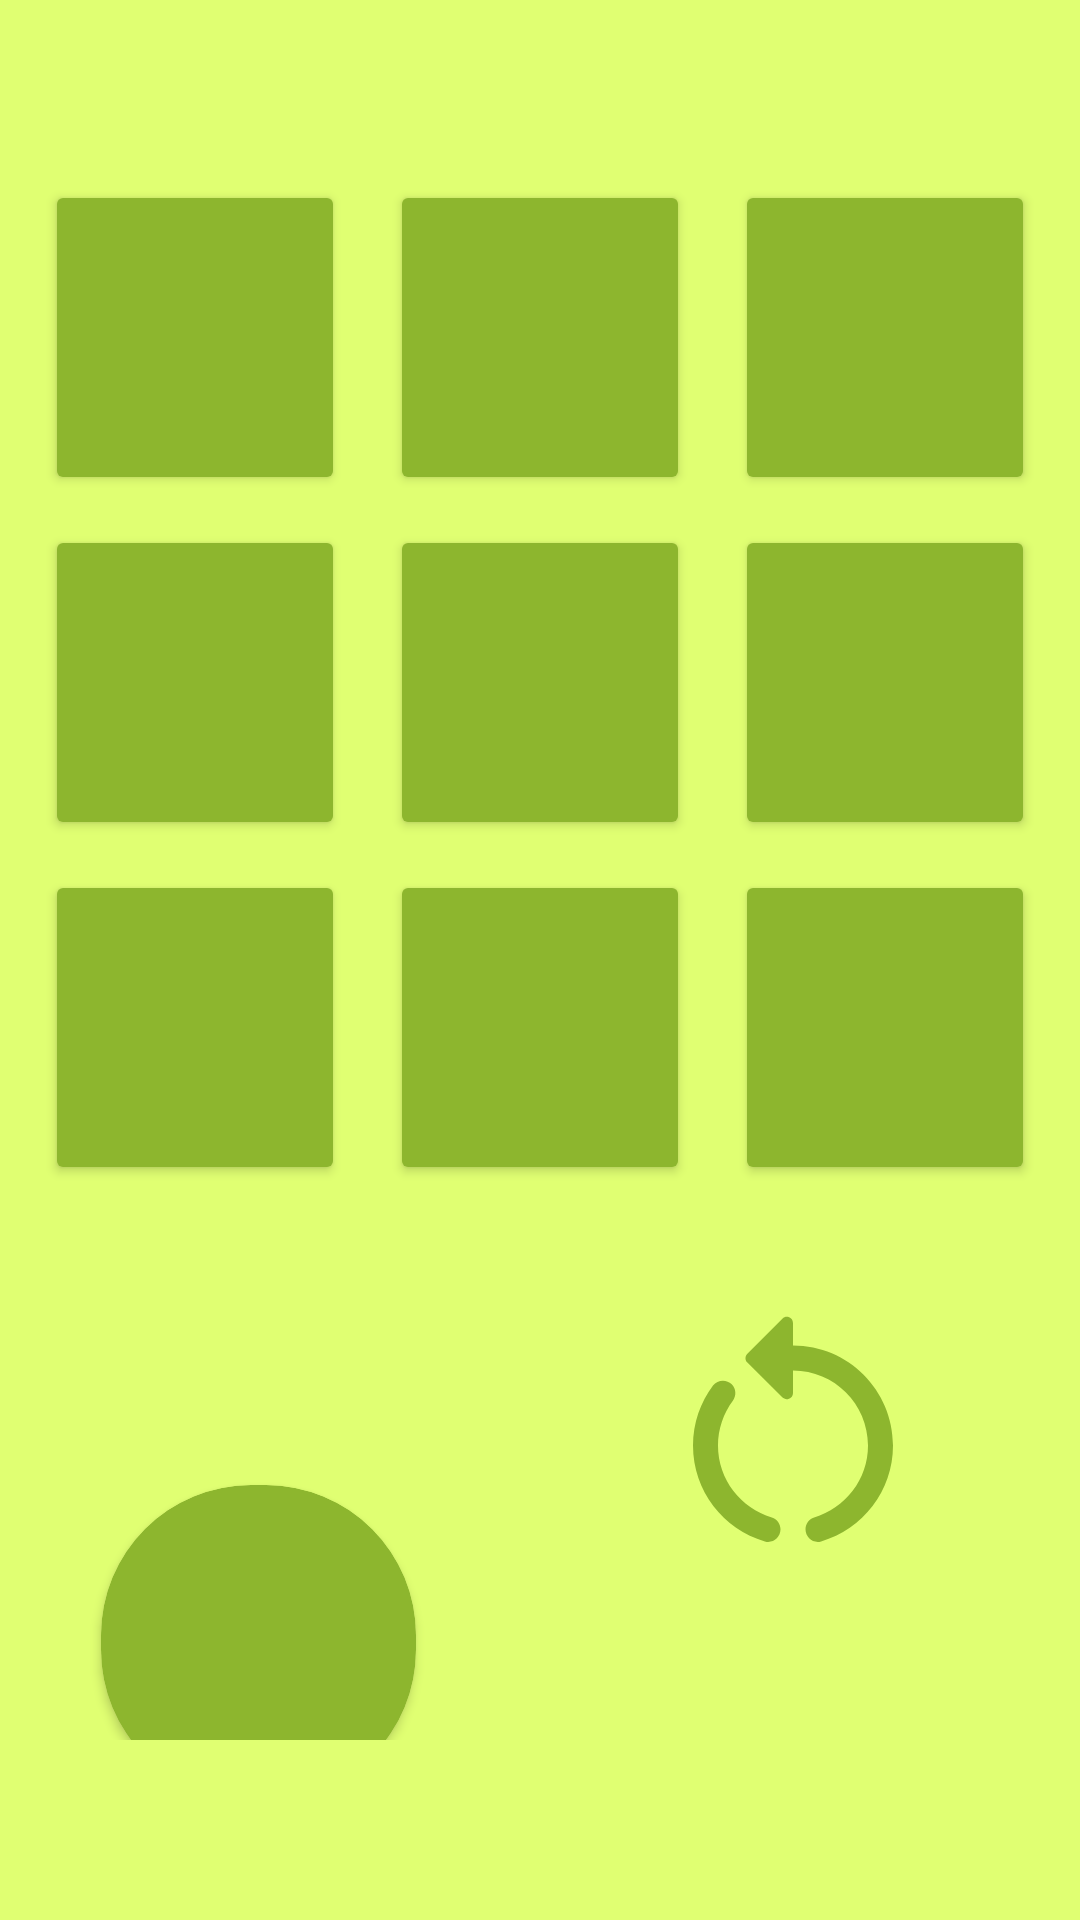

Where icons sit on this 1080px x 1920px app screen, as Rect(x1, y1, x2, y2):
Restart: Rect(693, 1317, 893, 1542)
